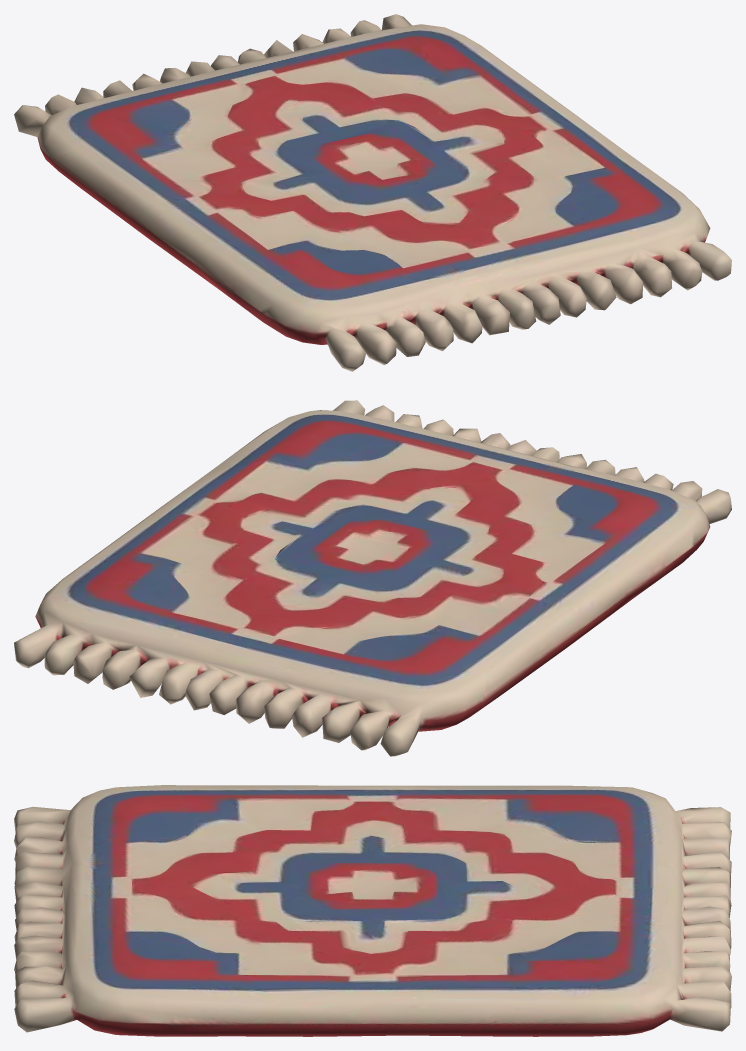
File: living_carpet_persian.glb
The picture shows the model from 3 angles, top to bottom: view 1: azimuth 30°, elevation 25°; view 2: azimuth 150°, elevation 25°; view 3: azimuth 270°, elevation 25°; orthographic projection. The views are drawn at different scales.
Parts seen in each view (by area): view 1: tripo_node_7a4c13c8-1b74-42c5-ae68-2c1b0bdf349b; view 2: tripo_node_7a4c13c8-1b74-42c5-ae68-2c1b0bdf349b; view 3: tripo_node_7a4c13c8-1b74-42c5-ae68-2c1b0bdf349b.
Part boxes in pixels (box(x1,y1,x2,y2)): tripo_node_7a4c13c8-1b74-42c5-ae68-2c1b0bdf349b: box(14, 14, 731, 371); tripo_node_7a4c13c8-1b74-42c5-ae68-2c1b0bdf349b: box(14, 400, 731, 756); tripo_node_7a4c13c8-1b74-42c5-ae68-2c1b0bdf349b: box(14, 785, 731, 1036).
Size of the model in its own units: 1.78 by 0.1996 by 2.4.
1 material, 1 textured.
